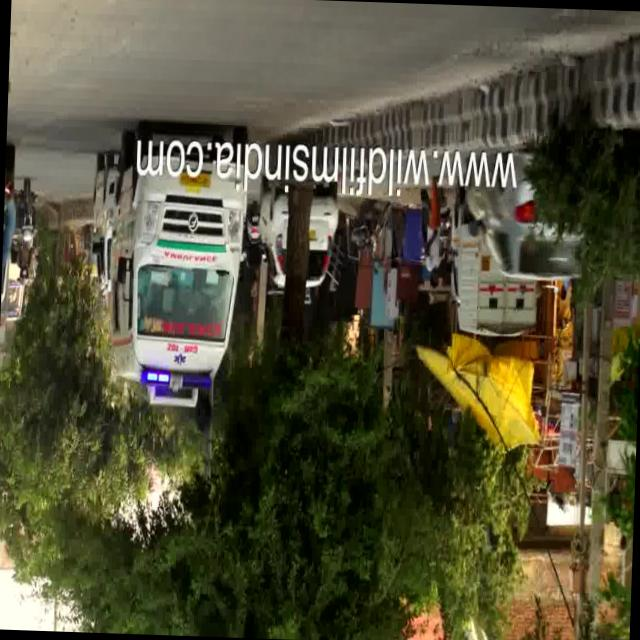ambulance: (106, 130, 252, 415)
